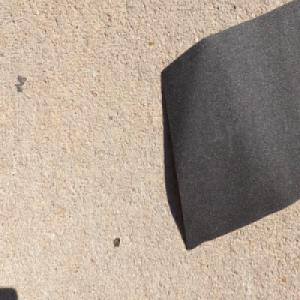PaintChip: (160, 0, 300, 252)
